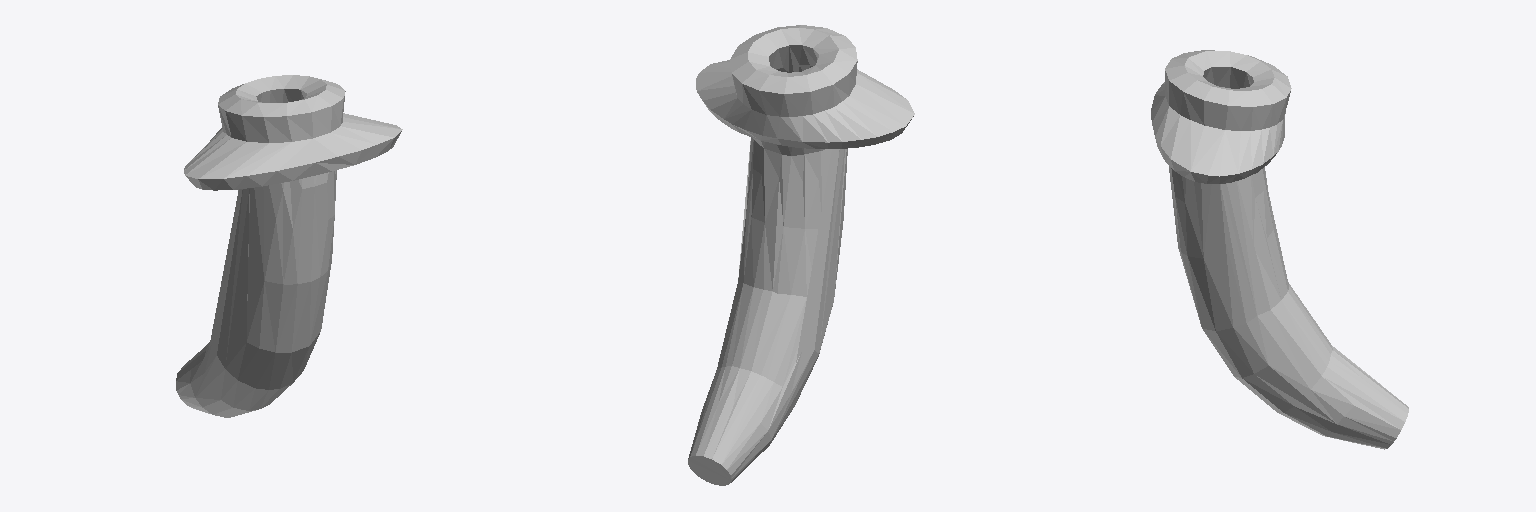
Rendered from Throat Gag_default.obj.
3 views of the same model, side by side, from view 1: azimuth 30°, elevation 25°; view 2: azimuth 150°, elevation 25°; view 3: azimuth 270°, elevation 25° (orthographic).
Parts seen in each view (by area): view 1: Throat_Gag_default; view 2: Throat_Gag_default; view 3: Throat_Gag_default.
Part boxes in pixels (left/top/right/bottom): Throat_Gag_default: left=176, top=75, right=402, bottom=417; Throat_Gag_default: left=688, top=25, right=914, bottom=485; Throat_Gag_default: left=1151, top=50, right=1408, bottom=449.
Size of the model in its own units: 0.5909 by 1.03 by 0.6329.